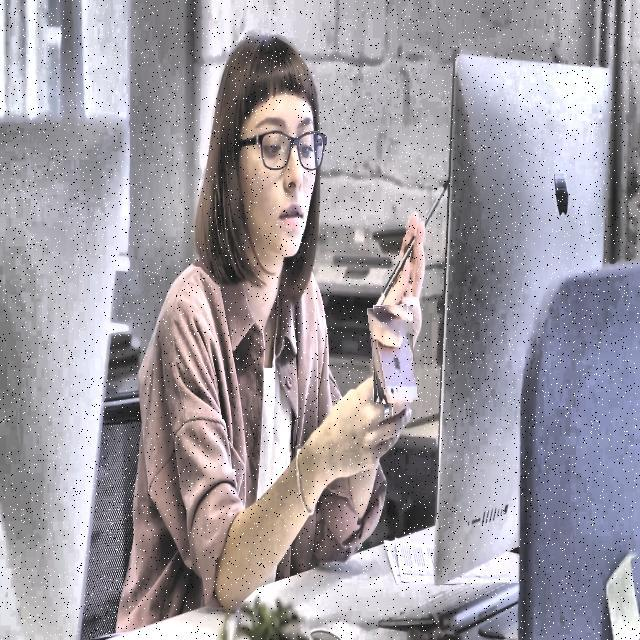Phone: (370, 304, 416, 403)
